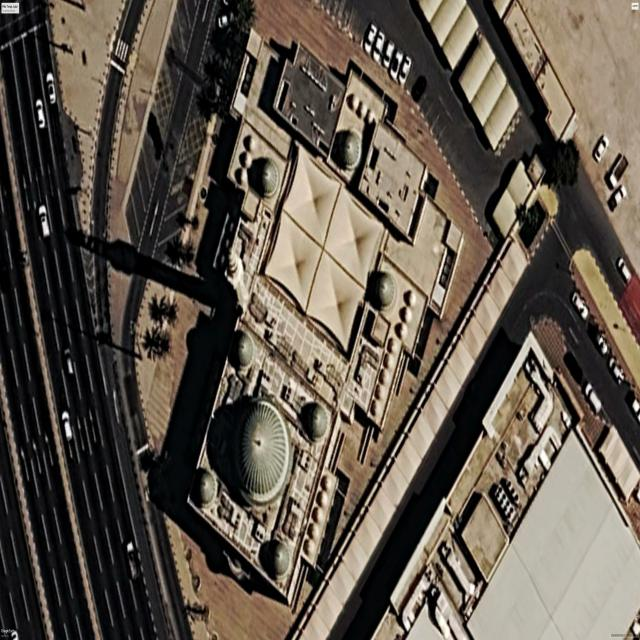mosque: (188, 29, 464, 605)
